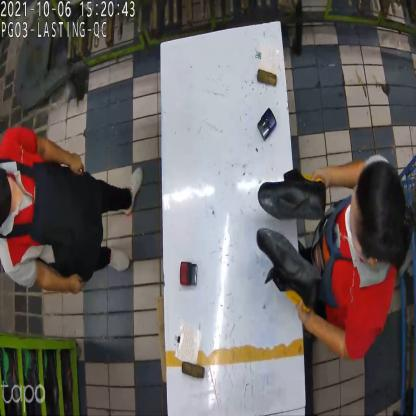shoes: (257, 172, 327, 310)
stamp: (258, 106, 276, 142), (179, 258, 198, 289)
